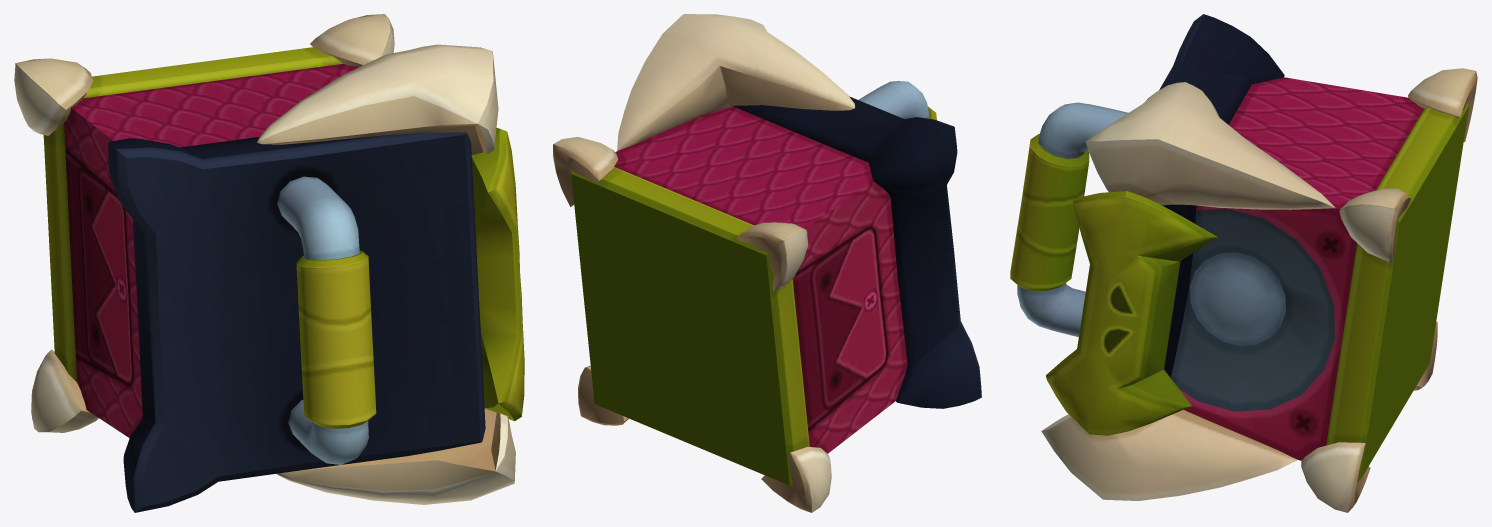
File: damian_weapon_r.glb
3 views of the same model, side by side, from view 1: azimuth 30°, elevation 25°; view 2: azimuth 150°, elevation 25°; view 3: azimuth 270°, elevation 25° (orthographic). The views are drawn at different scales.
Visible parts, largest first — view 1: damian_weapon_r_1; view 2: damian_weapon_r_1; view 3: damian_weapon_r_1.
Boxes of the visible parts, <box> form: damian_weapon_r_1: <box>14,14,524,512</box>; damian_weapon_r_1: <box>553,14,981,512</box>; damian_weapon_r_1: <box>1010,14,1477,512</box>.
Size of the model in its own units: 5.71 by 6.07 by 6.74.
2 materials, 2 textured.
